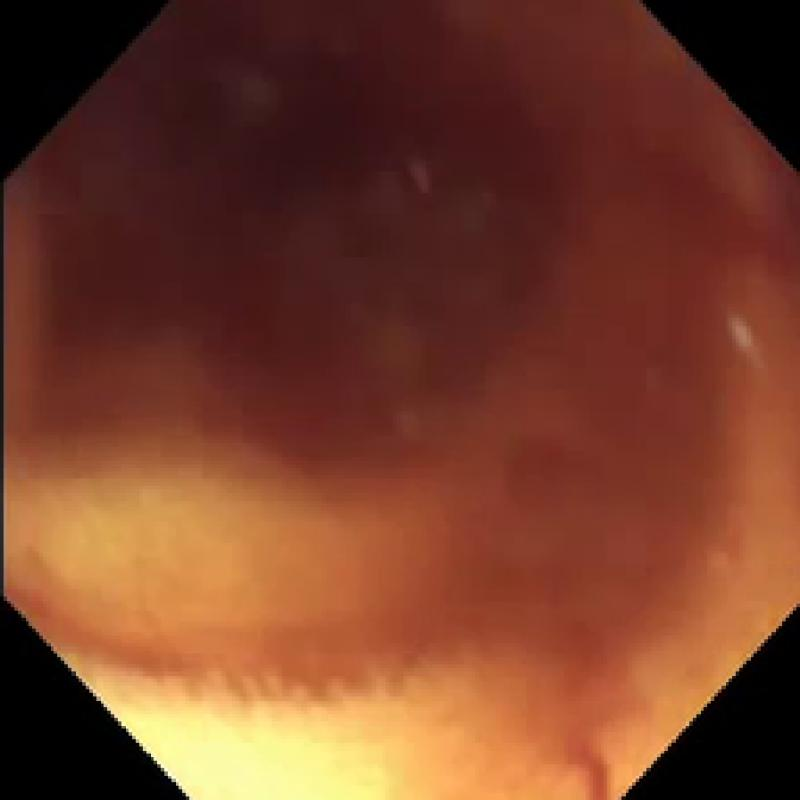bleeding: (3, 0, 800, 689), (552, 712, 616, 800)
